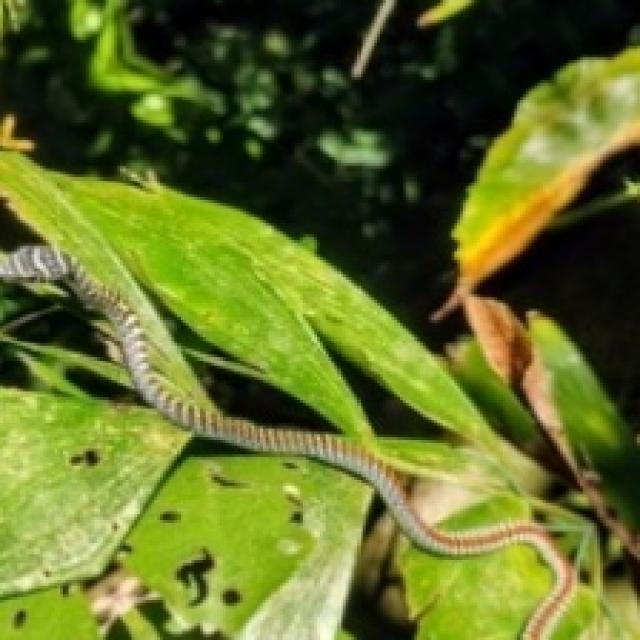paradise tree snake: (0, 246, 603, 637)
